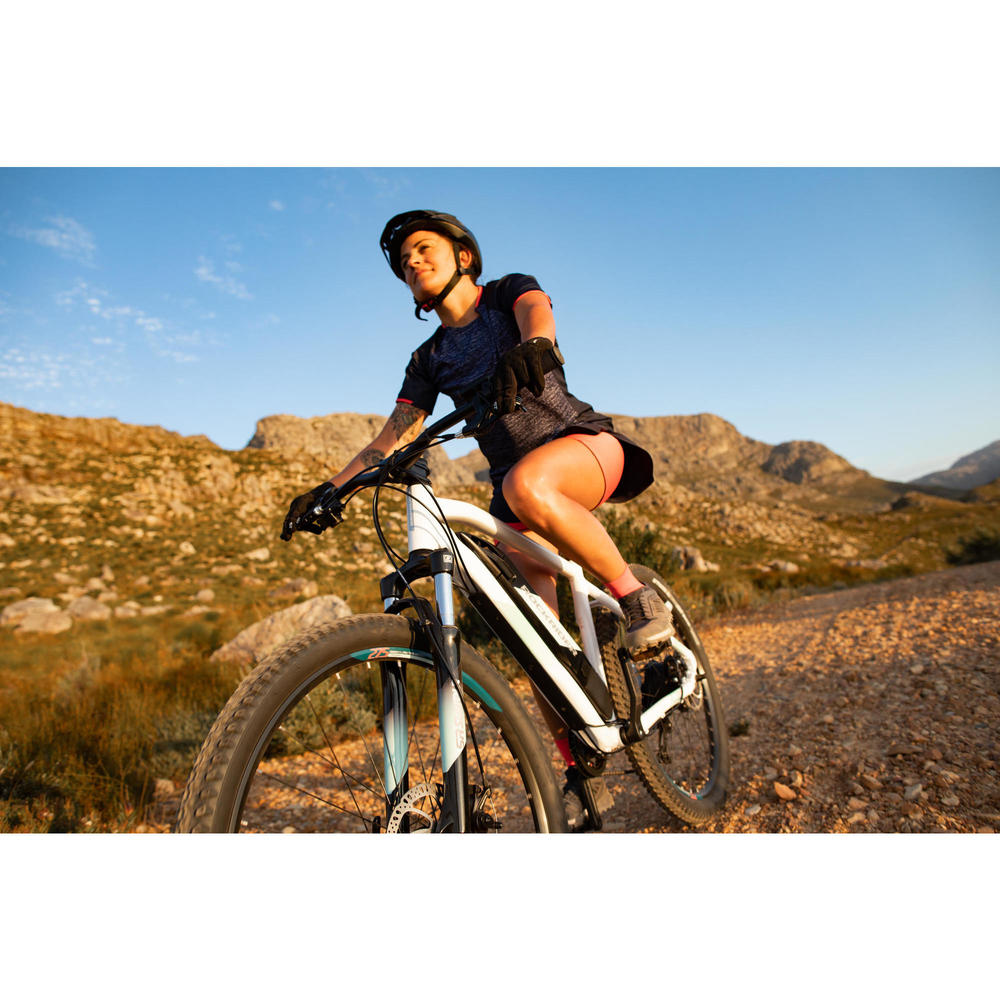MountainBike: (178, 451, 721, 841)
